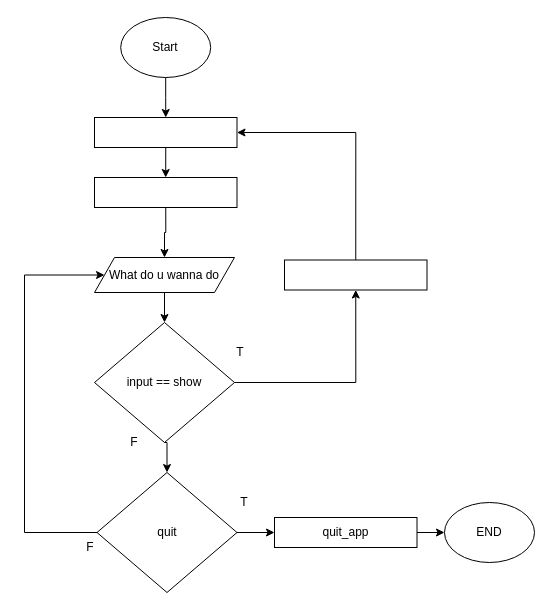
Image size: 552x610. Some labels were removed from this diagram. The centre of each missing label's shape, as x and y in pixels:
"get_random_question" belongs at [165,132].
"show_answer" belongs at [355,274].
"show_question" belongs at [165,192].
